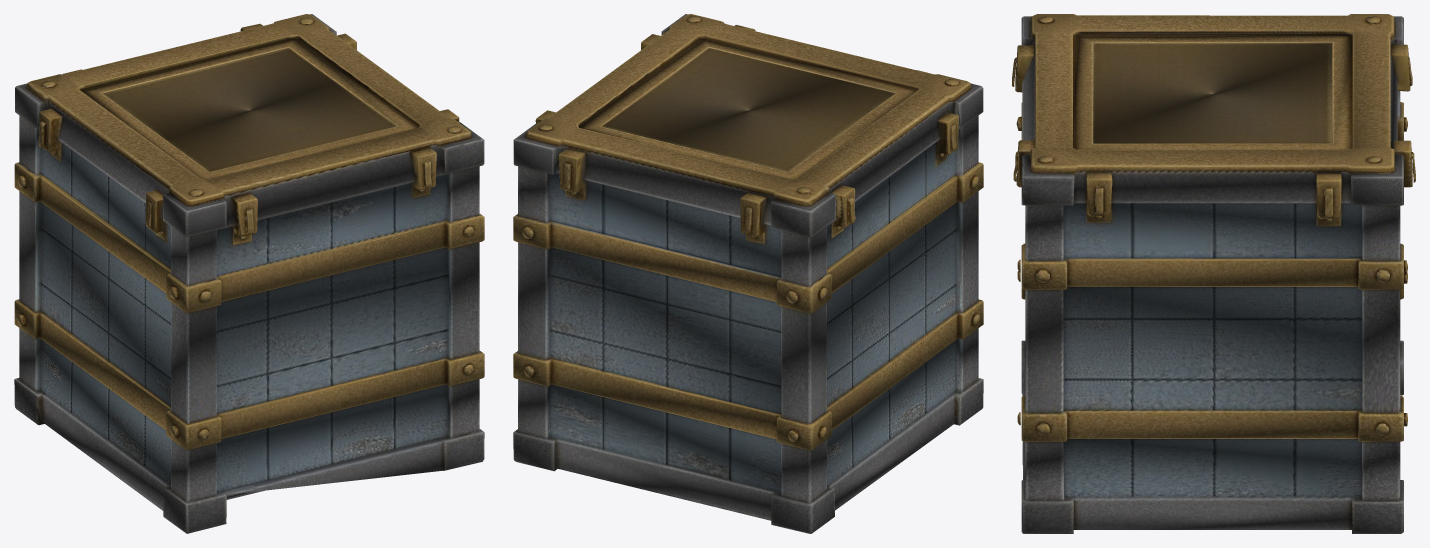
File: tripo_convert_6524e622-a9af-4f19-9d44-d03d23a4ea5b.fbx
3 renders of one model, left to right at view 1: azimuth 30°, elevation 25°; view 2: azimuth 150°, elevation 25°; view 3: azimuth 270°, elevation 25°, orthographic. The views are drawn at different scales.
Visible parts, largest first — view 1: tripo_node_6524e622; view 2: tripo_node_6524e622; view 3: tripo_node_6524e622.
Part boxes in pixels (x1=…): tripo_node_6524e622: x1=14, y1=14, x2=484, y2=533; tripo_node_6524e622: x1=513, y1=14, x2=983, y2=533; tripo_node_6524e622: x1=1012, y1=14, x2=1415, y2=533.
Size of the model in its own units: 0.998 by 0.998 by 0.998.
1 material, 1 textured.
